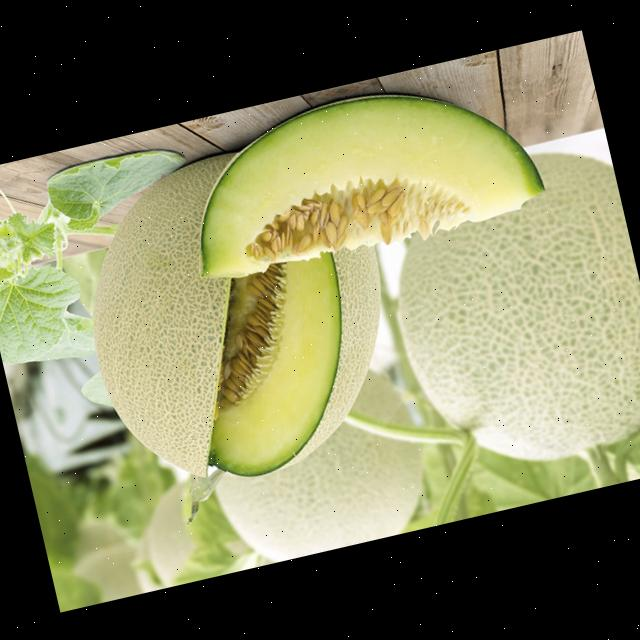Hami Melon: (59, 124, 419, 507), (369, 139, 640, 487), (167, 61, 546, 282)
